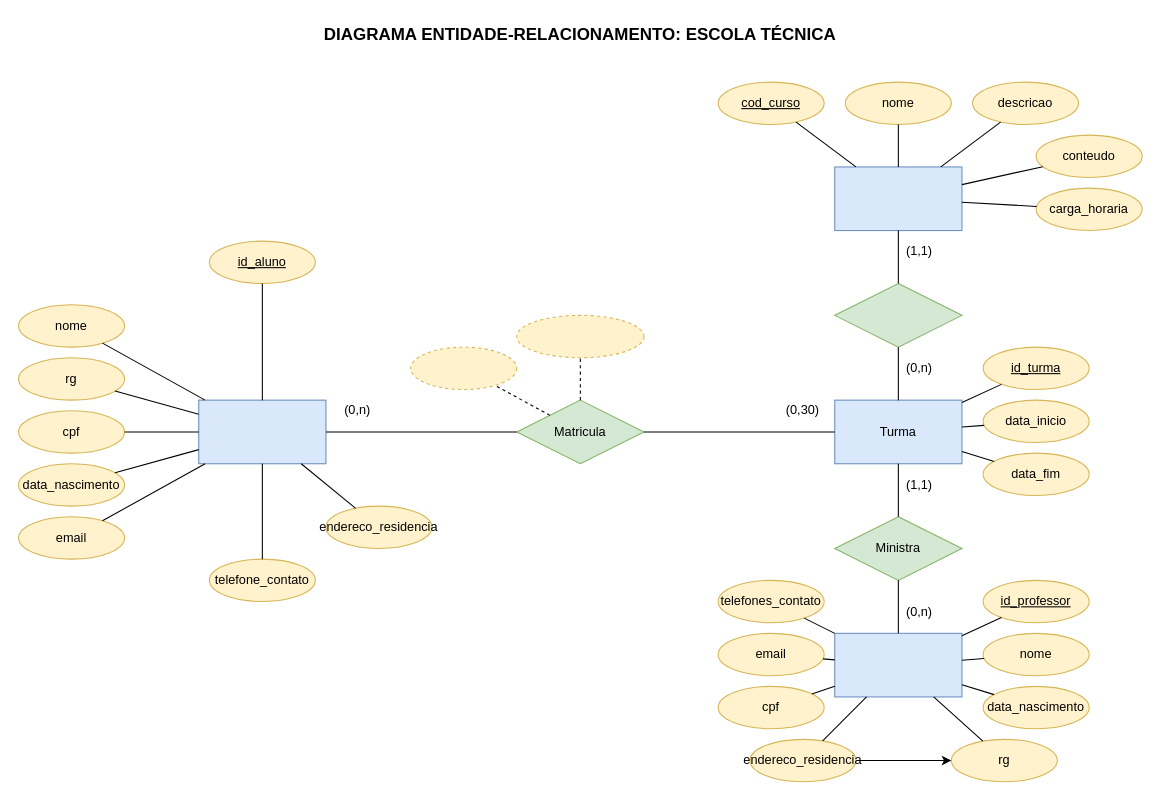
This 1161x800 diagram has some shape labels left out. Each missing label, with the centre of its shape:
Aluno: pixel 262 431
Curso: pixel 898 198
media_notas: pixel 463 368
Oferecimento: pixel 898 314
Professor: pixel 898 664
status_aprovacao: pixel 580 336
